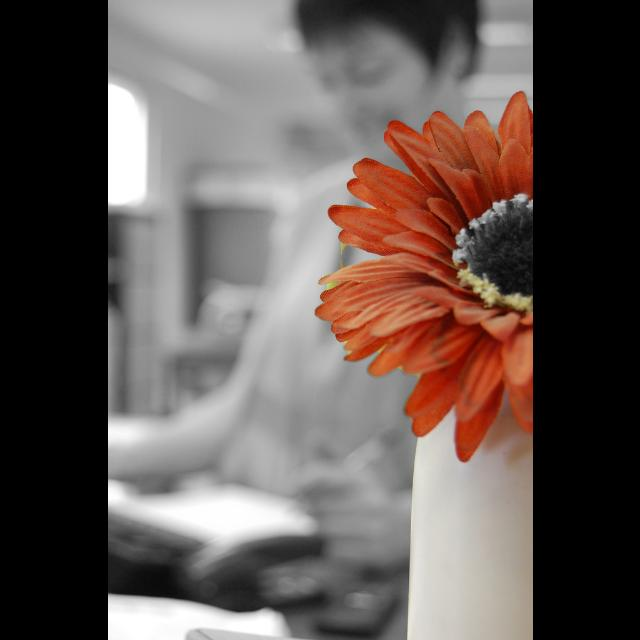Flower: (316, 98, 530, 474)
